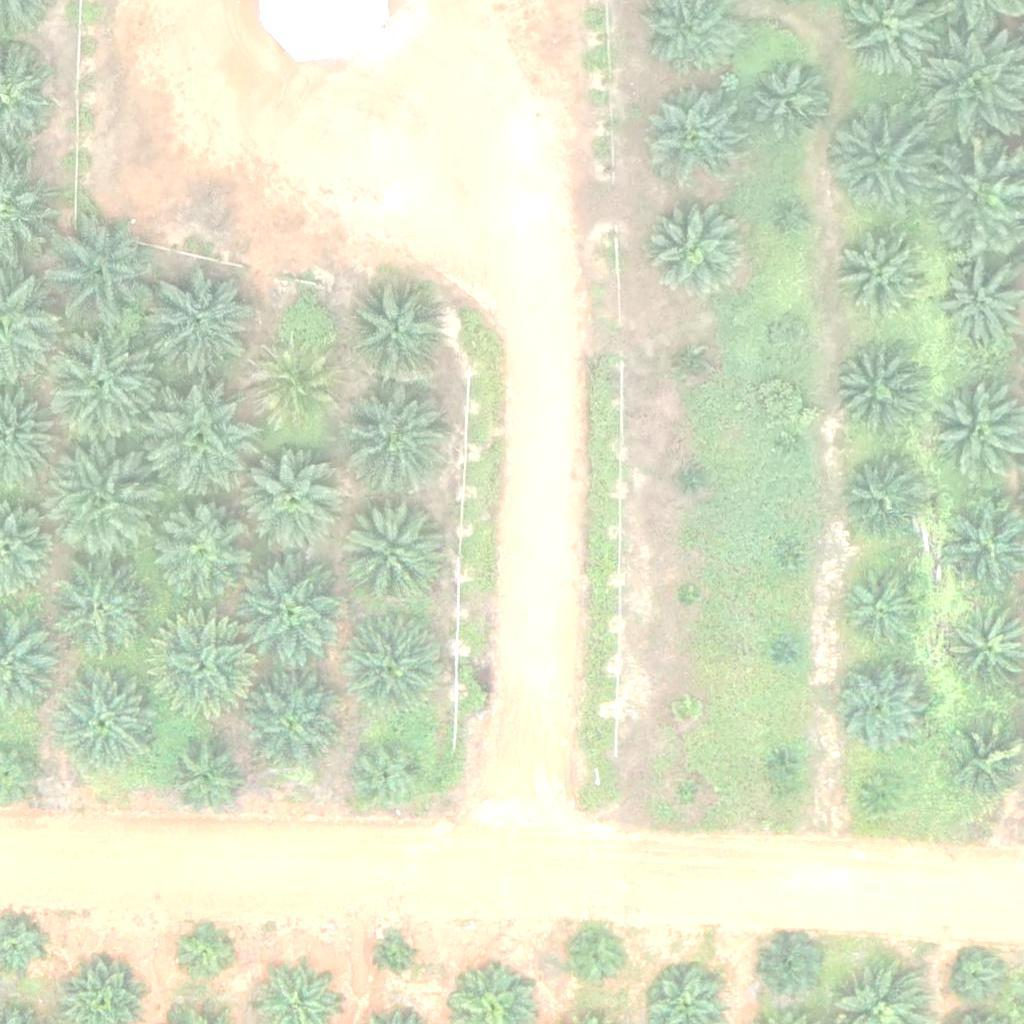Kelapa_Sawit: (824, 103, 937, 217), (148, 266, 261, 380), (146, 382, 259, 496), (46, 217, 159, 331), (235, 555, 348, 668), (46, 323, 158, 437), (148, 616, 260, 729), (824, 652, 936, 765), (343, 381, 455, 494), (43, 448, 155, 561), (645, 86, 745, 187), (643, 194, 743, 295), (345, 281, 445, 382), (242, 673, 342, 774), (51, 564, 151, 665), (55, 671, 155, 772), (340, 501, 440, 601), (345, 615, 445, 715), (246, 454, 346, 554), (152, 504, 252, 604), (842, 563, 930, 652), (839, 455, 927, 543), (251, 344, 339, 432), (840, 227, 927, 315), (833, 349, 920, 437), (746, 56, 833, 144), (351, 737, 426, 813), (169, 743, 244, 818), (757, 936, 820, 999), (172, 917, 234, 980), (567, 929, 629, 992), (952, 953, 1002, 1003), (771, 319, 809, 357), (864, 774, 902, 812), (379, 937, 416, 975), (784, 204, 809, 229), (780, 434, 805, 459), (774, 550, 799, 575), (680, 354, 705, 379), (680, 467, 705, 492), (676, 585, 701, 610), (672, 697, 697, 722), (675, 781, 700, 806), (775, 639, 800, 664), (768, 749, 793, 774)
